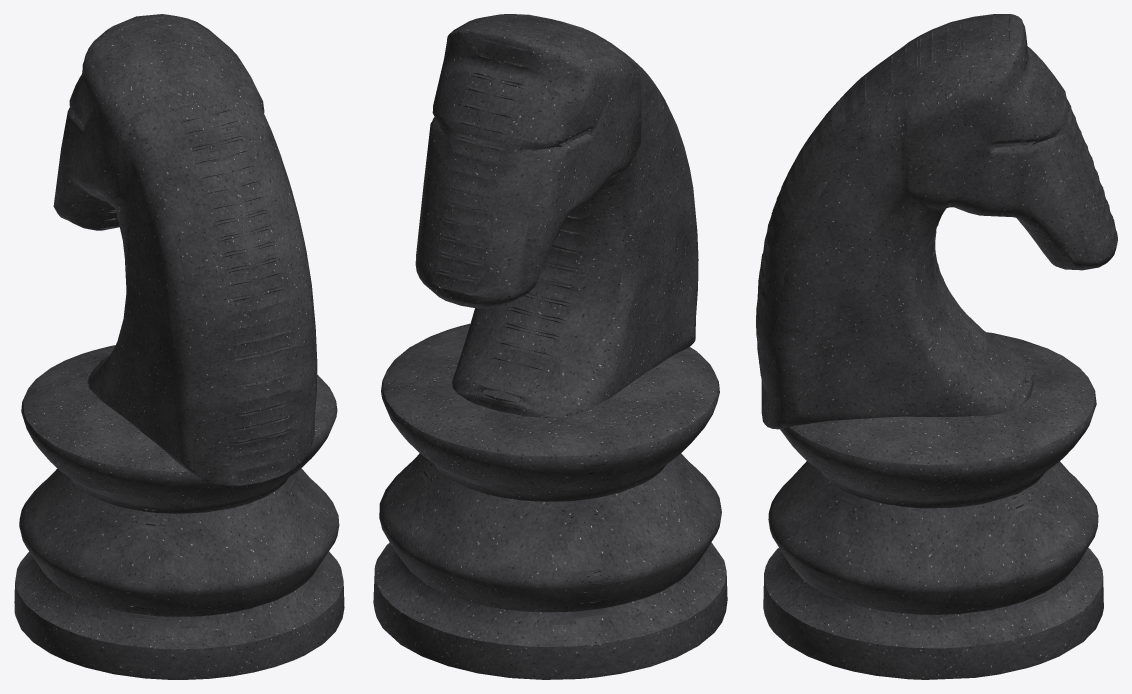
Rendered from knight-black.glb.
The picture shows the model from 3 angles, left to right: view 1: azimuth 30°, elevation 25°; view 2: azimuth 150°, elevation 25°; view 3: azimuth 270°, elevation 25°; orthographic projection. The views are drawn at different scales.
Parts seen in each view (by area): view 1: jezdec_cerna; view 2: jezdec_cerna; view 3: jezdec_cerna.
Part boxes in pixels (bbox=[...]): jezdec_cerna: bbox=[14, 14, 344, 679]; jezdec_cerna: bbox=[373, 14, 727, 679]; jezdec_cerna: bbox=[756, 14, 1117, 679].
Bounding box in the file's own units: 0.6004 × 1.15 × 0.6376.
1 material, 1 textured.
